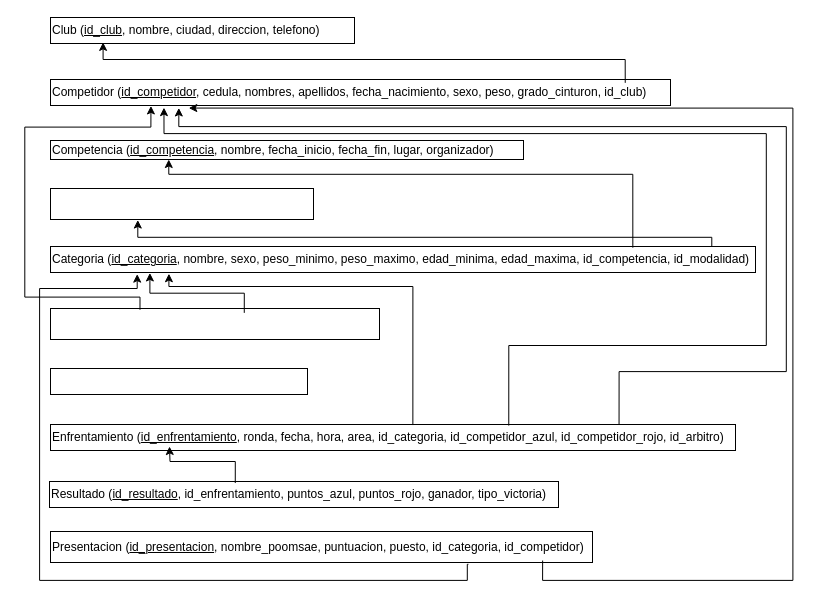
The diagram is 819 pixels wide and 606 high, and some of its shapes have lost their labels. The shapes that lost their labels are listed below. From the top down, each one's centre as x and y in pixels, then its label:
(x=182, y=204): Modalidad ( id_modalidad , nombre, descripcion)
(x=215, y=324): Inscripcion ( id_competidor , id_categoria , fecha_inscripcion)
(x=179, y=381): Arbitro ( id_arbitro , cedula, nombres, apellidos)
